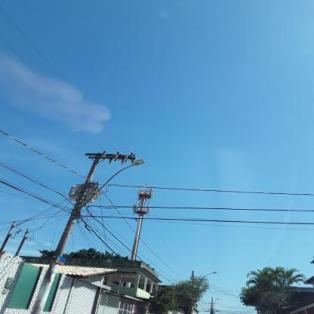Poste: (29, 149, 106, 314)
